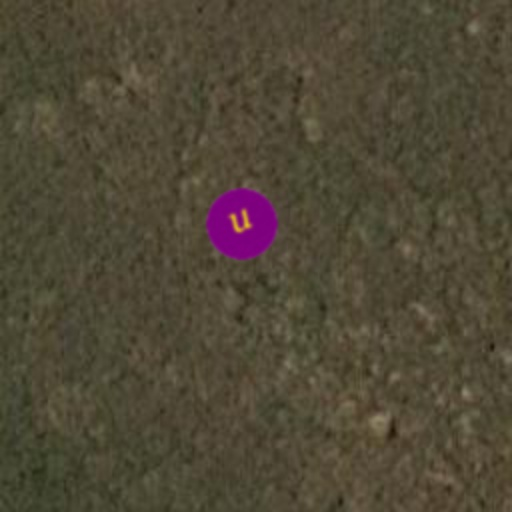circle: (194, 176, 290, 272)
